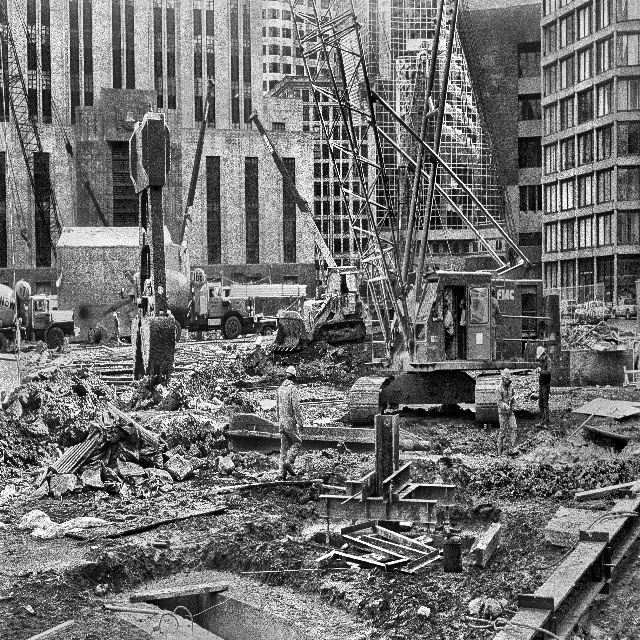Sin_guantes: (299, 424, 304, 432), (512, 395, 516, 404), (537, 366, 541, 372)
